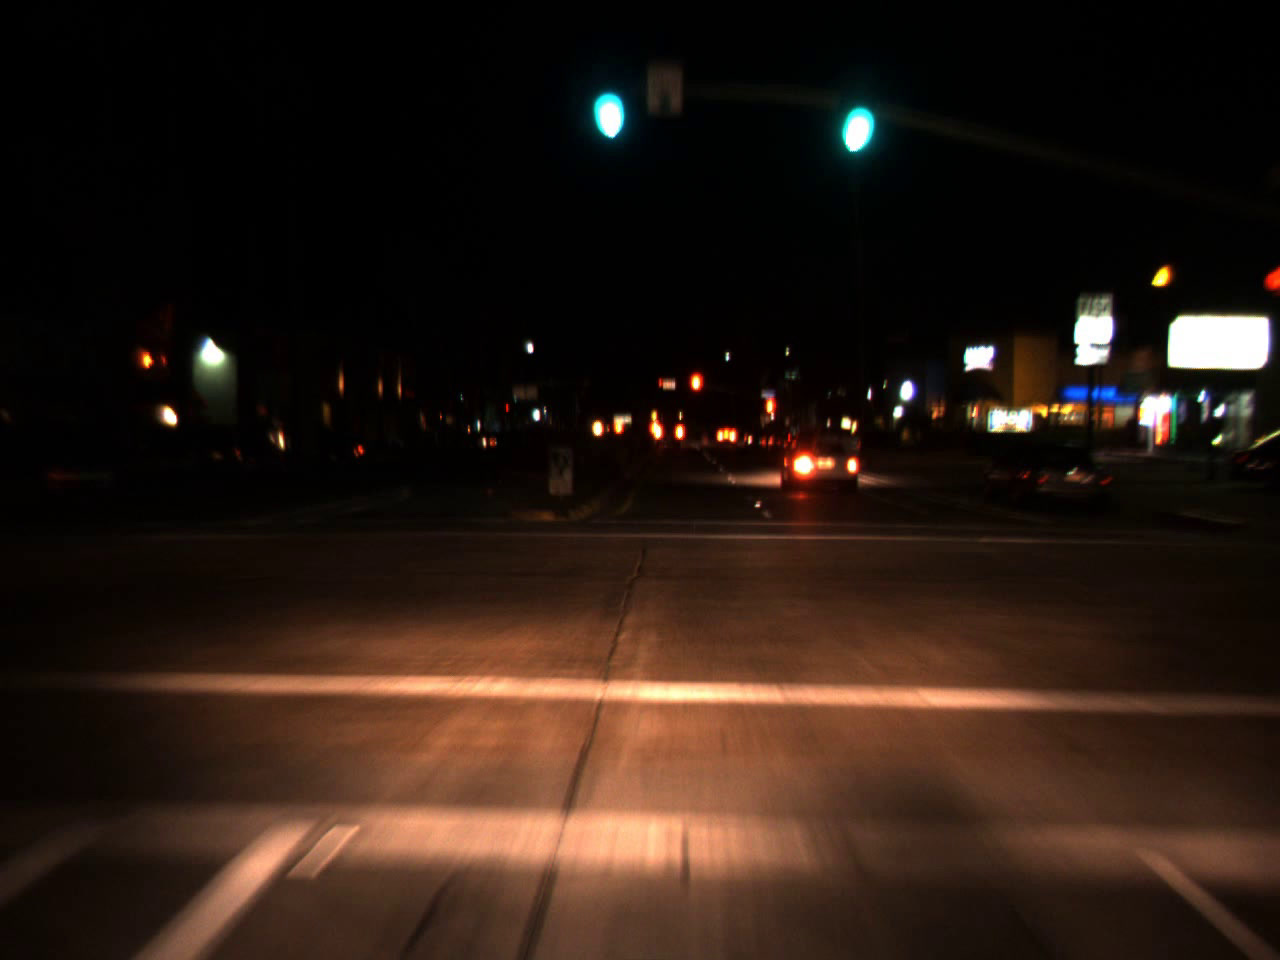go: (582, 62, 630, 146), (831, 74, 877, 161)
stop: (688, 370, 704, 413), (763, 394, 778, 437)
